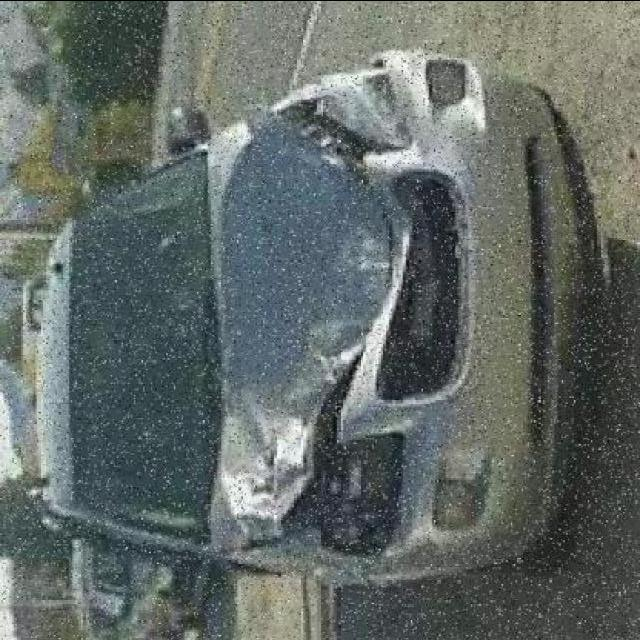Headlight-Damage: (288, 50, 424, 163)
bonnet-dent: (201, 149, 397, 552)
